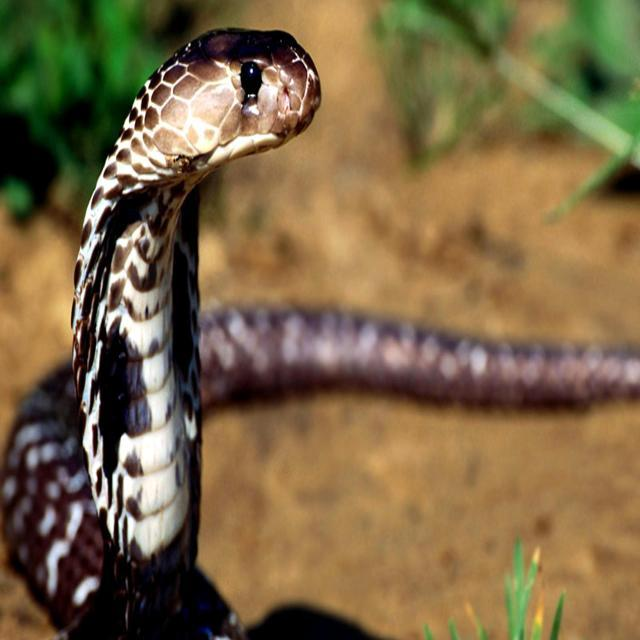Snake: (1, 25, 638, 638)
